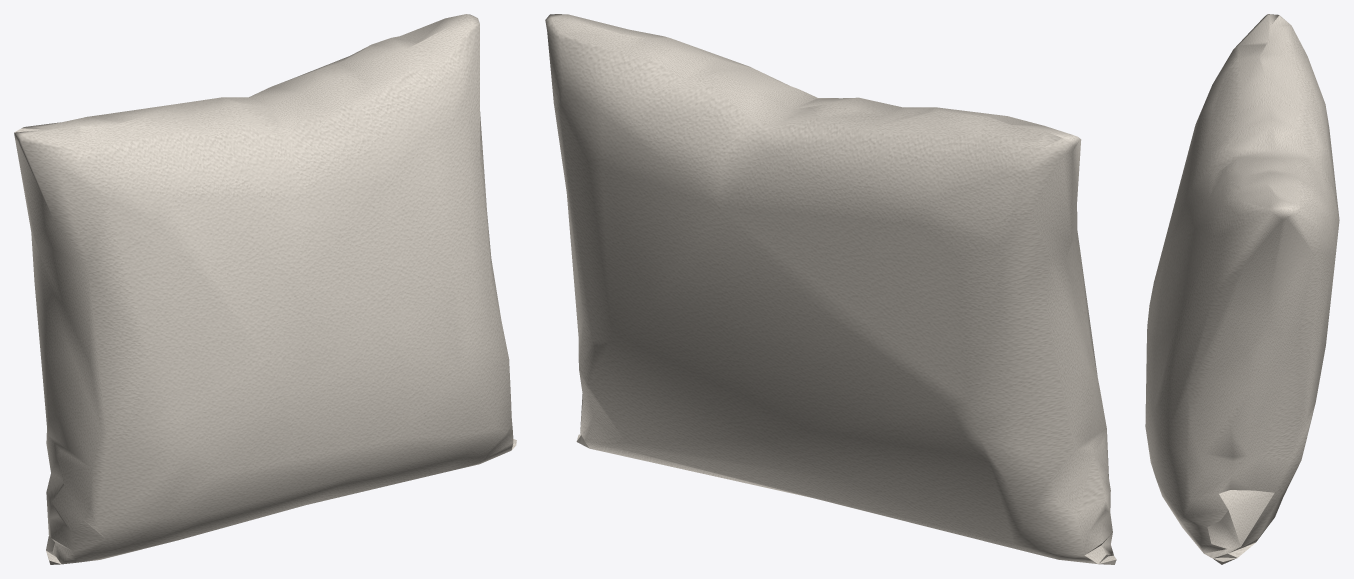
Rendered from Pillow 1.fbx.
3 renders of one model, left to right at view 1: azimuth 30°, elevation 25°; view 2: azimuth 150°, elevation 25°; view 3: azimuth 270°, elevation 25°, orthographic. The views are drawn at different scales.
Parts seen in each view (by area): view 1: pillow 1; view 2: pillow 1; view 3: pillow 1.
Boxes of the visible parts, x1,y1,x2,y2 form: pillow 1: [14, 14, 516, 564]; pillow 1: [545, 14, 1116, 564]; pillow 1: [1145, 14, 1339, 564].
Size of the model in its own units: 77.98 by 64.06 by 31.77.
